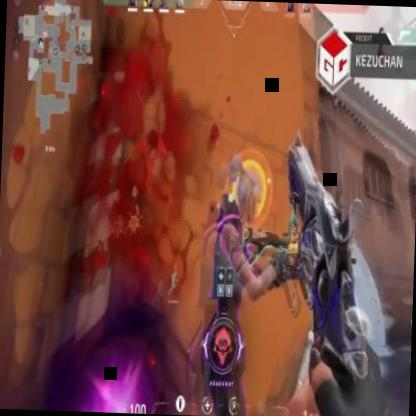enemy: (199, 149, 281, 416)
enemy_head: (226, 152, 260, 226)
